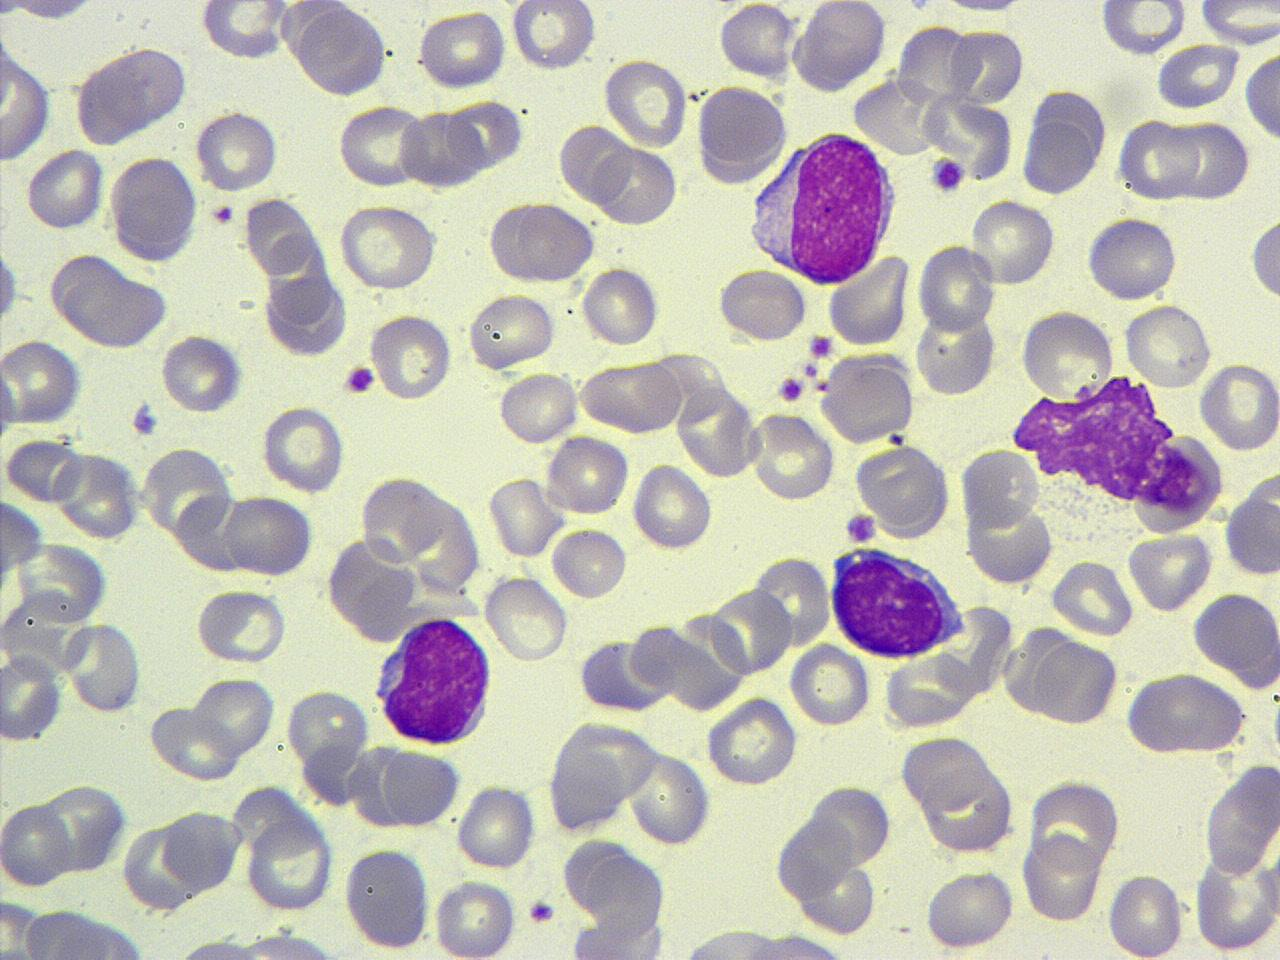Platelets: (929, 154, 967, 195), (0, 247, 19, 324), (342, 362, 378, 398), (844, 512, 879, 546), (129, 401, 160, 437), (526, 896, 558, 926), (776, 374, 806, 404), (806, 332, 834, 360), (210, 202, 238, 226)
RBC: (543, 720, 653, 834), (1122, 671, 1248, 757), (107, 155, 202, 264), (341, 842, 434, 952), (693, 83, 792, 185), (486, 198, 600, 285), (336, 199, 439, 292), (1016, 307, 1116, 402), (852, 443, 952, 535), (1201, 762, 1279, 881), (702, 694, 800, 788), (818, 352, 918, 444), (55, 272, 170, 351), (296, 2, 388, 100), (794, 2, 890, 95), (626, 747, 714, 848), (919, 766, 1017, 855), (602, 54, 690, 150), (356, 473, 444, 568), (246, 818, 335, 913), (968, 195, 1056, 289), (1084, 214, 1180, 302), (15, 537, 113, 623), (1121, 301, 1213, 390), (962, 498, 1056, 586), (580, 357, 684, 436), (481, 572, 570, 664), (826, 252, 912, 348), (748, 410, 836, 503), (368, 310, 454, 404), (54, 450, 143, 541), (416, 6, 509, 93), (1027, 778, 1113, 872), (922, 866, 1016, 952), (335, 102, 425, 190), (260, 402, 346, 494), (222, 492, 314, 577), (915, 240, 997, 336), (464, 290, 559, 372), (283, 684, 370, 773), (912, 307, 997, 398), (1198, 358, 1280, 453), (193, 585, 288, 666), (191, 672, 278, 760), (1116, 115, 1202, 204), (592, 143, 682, 228), (1020, 832, 1104, 924), (65, 618, 144, 714), (714, 265, 810, 344), (1162, 115, 1250, 202), (194, 106, 280, 194), (430, 874, 521, 958), (1104, 868, 1186, 960), (712, 584, 792, 678), (1031, 640, 1119, 726), (958, 443, 1041, 533), (632, 460, 714, 552), (898, 732, 992, 812), (787, 639, 872, 727), (121, 820, 200, 914), (14, 907, 154, 959), (160, 330, 246, 414), (1191, 589, 1279, 672), (261, 275, 350, 357), (455, 781, 535, 870), (161, 802, 240, 893), (1126, 529, 1212, 612), (1, 338, 83, 426), (883, 651, 974, 730), (546, 432, 630, 516), (580, 263, 662, 349), (400, 106, 482, 192), (25, 145, 106, 232), (1020, 108, 1099, 197), (1050, 557, 1136, 637), (174, 488, 251, 577), (815, 781, 893, 866), (486, 473, 562, 560), (382, 746, 462, 829), (495, 369, 581, 446), (558, 121, 635, 205), (946, 25, 1025, 106), (550, 522, 628, 604), (508, 0, 598, 71), (1223, 468, 1279, 580), (0, 799, 70, 889), (244, 195, 317, 278), (446, 96, 524, 172), (717, 2, 793, 80), (1, 50, 53, 163), (1153, 41, 1239, 110), (1, 650, 65, 742), (4, 435, 85, 505), (199, 0, 287, 61), (1097, 0, 1187, 56), (1197, 0, 1280, 48), (1242, 46, 1280, 147), (0, 495, 43, 580), (1249, 207, 1279, 309), (0, 242, 22, 325)
WBC: (1014, 374, 1220, 537), (744, 126, 904, 286), (827, 542, 971, 659), (374, 612, 498, 748), (70, 42, 193, 149), (548, 716, 650, 831), (55, 264, 174, 353), (110, 155, 204, 263), (294, 2, 390, 100), (1020, 97, 1106, 198), (654, 925, 863, 960), (262, 274, 350, 358), (163, 928, 367, 959)
